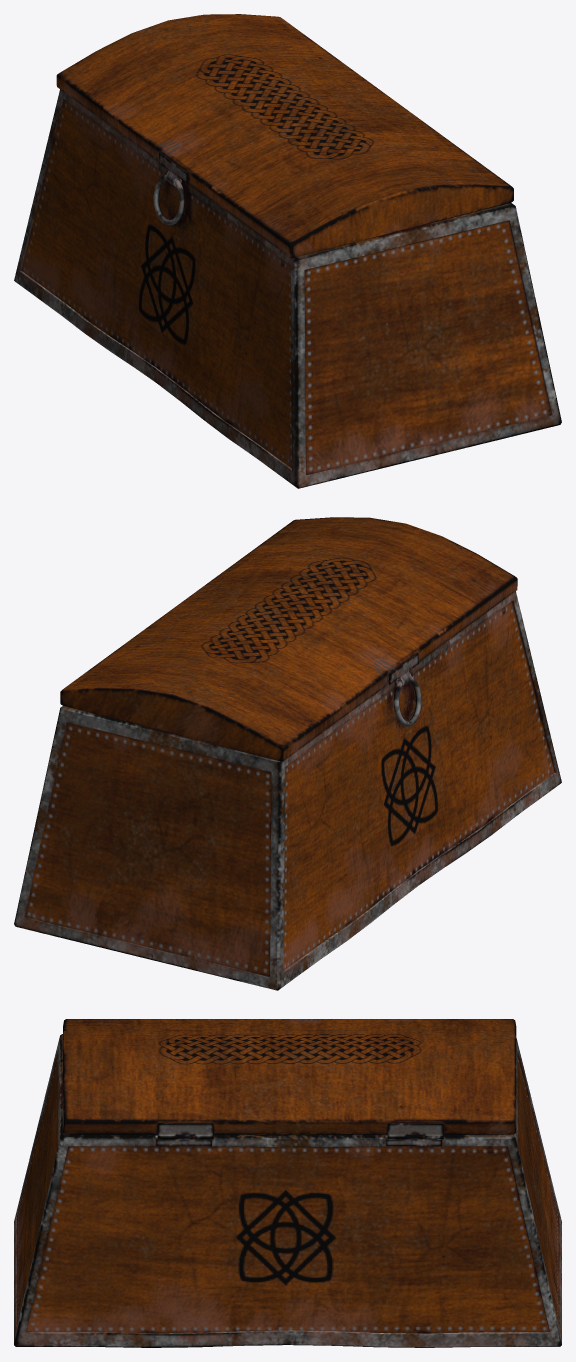
File: viking_chest.glb
3 renders of one model, top to bottom at view 1: azimuth 30°, elevation 25°; view 2: azimuth 150°, elevation 25°; view 3: azimuth 270°, elevation 25°, orthographic. The views are drawn at different scales.
Parts seen in each view (by area): view 1: Viking_Chest_Low_BaseColor; view 2: Viking_Chest_Low_BaseColor; view 3: Viking_Chest_Low_BaseColor.
Part boxes in pixels (x1,y1,x2,y2): Viking_Chest_Low_BaseColor: [14, 14, 561, 488]; Viking_Chest_Low_BaseColor: [14, 517, 561, 990]; Viking_Chest_Low_BaseColor: [14, 1019, 561, 1347].
Size of the model in its own units: 0.9246 by 0.8247 by 1.71.
Materials: 2 (2 with a texture image).
